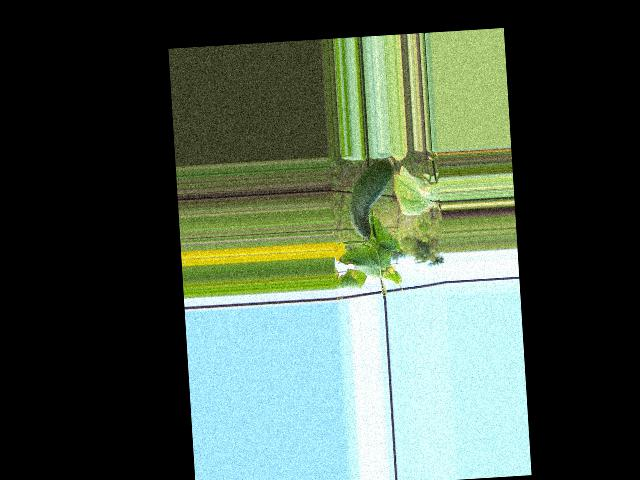cucumber: (346, 159, 398, 239)
